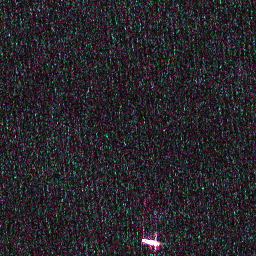ship: (139, 236, 161, 248)
